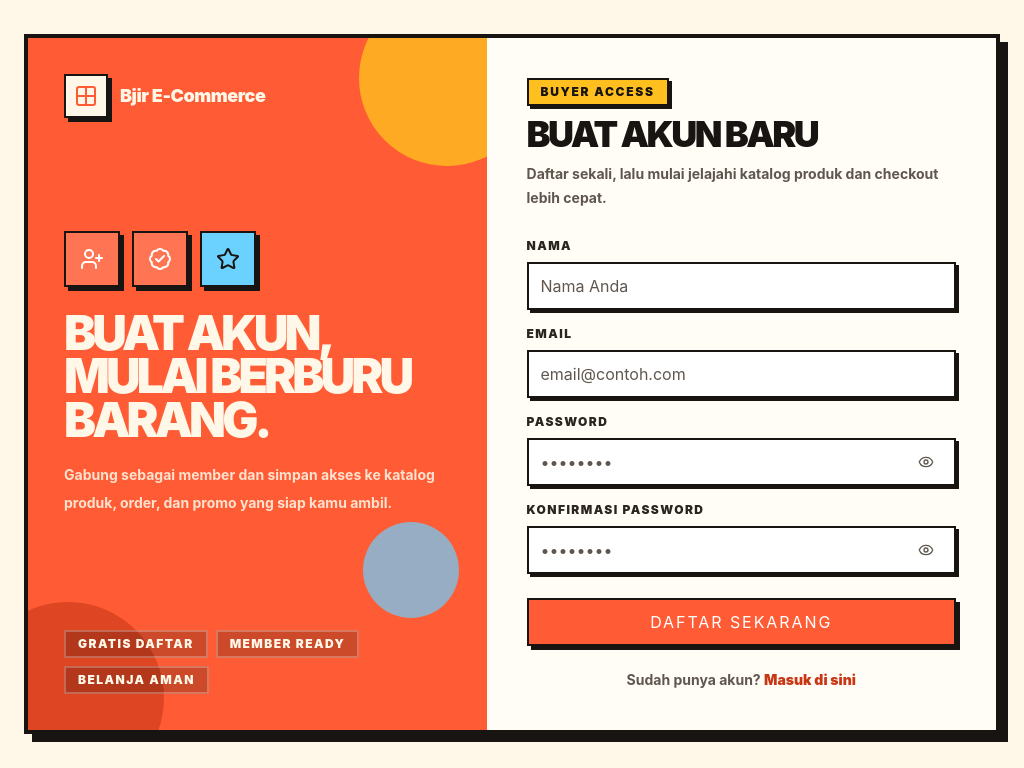
auth flow › shows register error for existing email
Type "Bintang Customer" into the field labelled "Nama" at (741, 286), box [540,274,942,298]
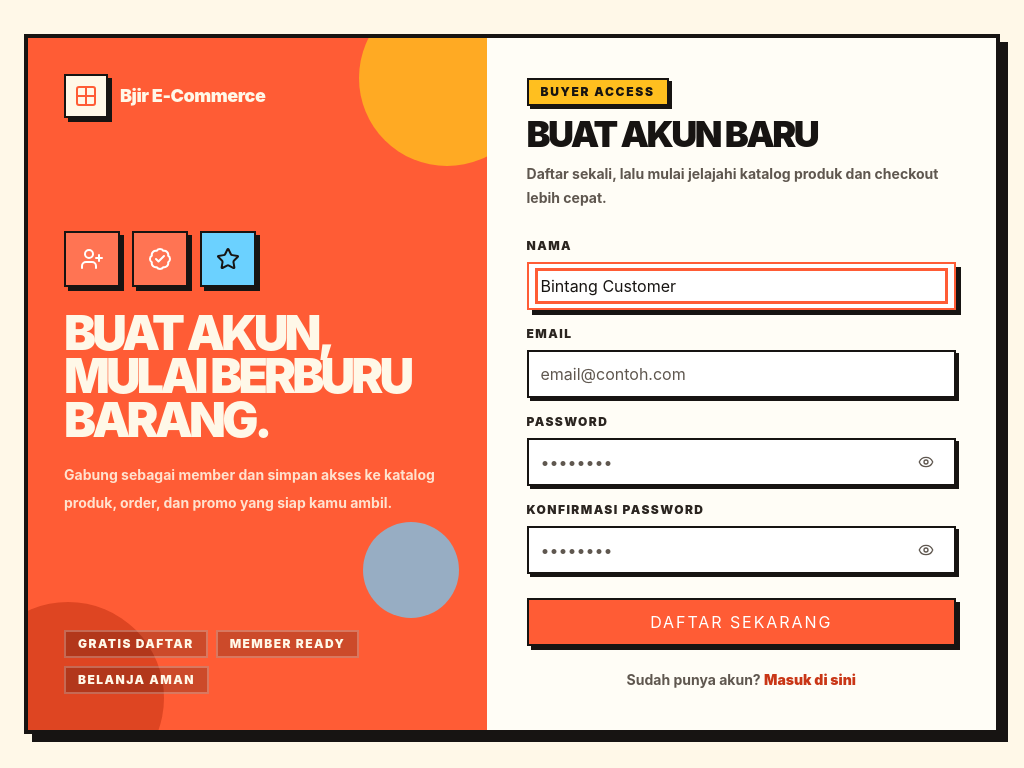
Type "customer@example.test" into the field labelled "Email" at (741, 374), box [540,362,942,386]
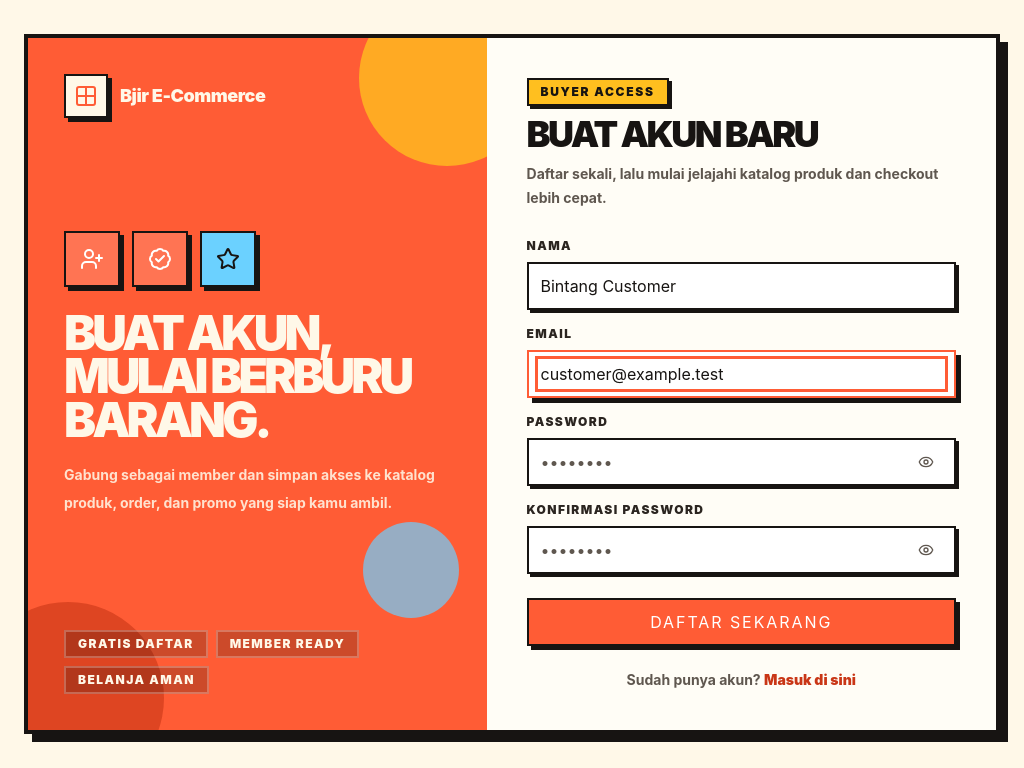
Type "Password123!" into the password field labelled "Password" at (721, 462), box [540,450,902,474]
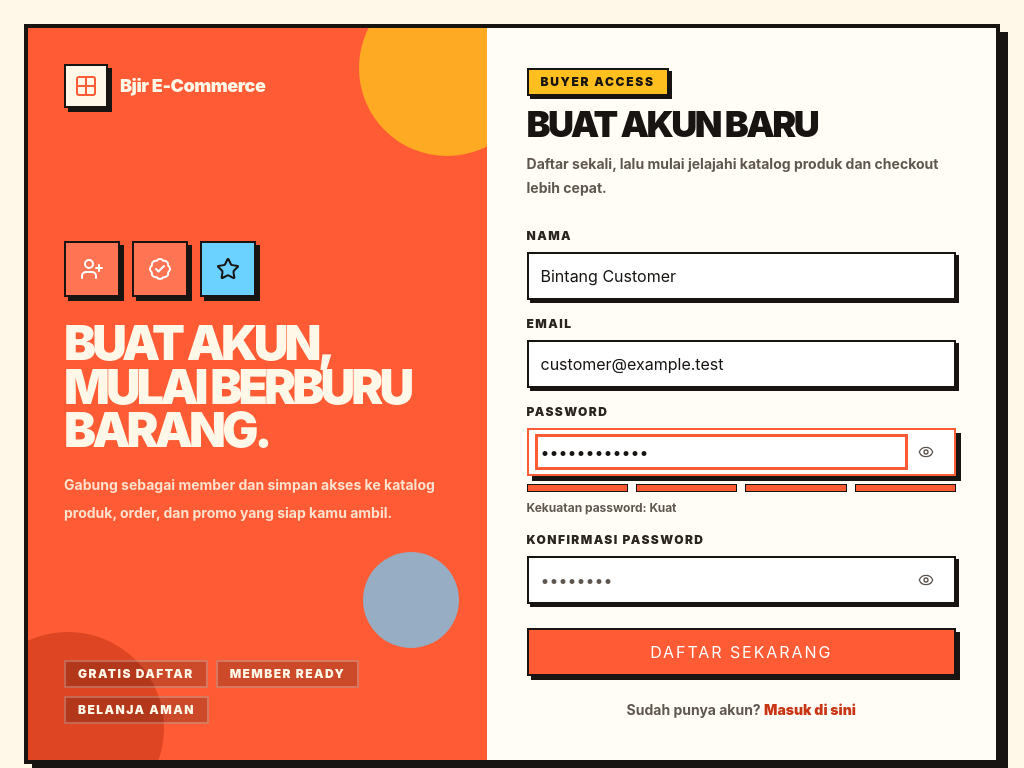
Type "Password123!" into the password field labelled "Konfirmasi Password" at (721, 580), box [540,568,902,592]
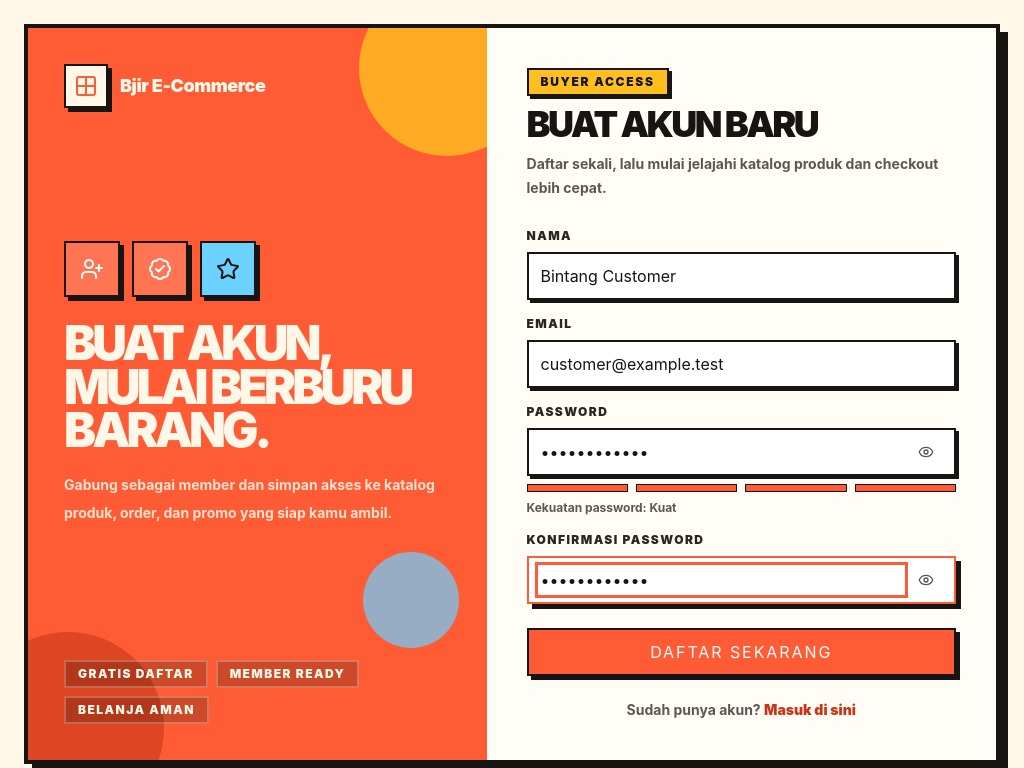
Click the button "Daftar sekarang" at (741, 652), box [526,628,956,676]
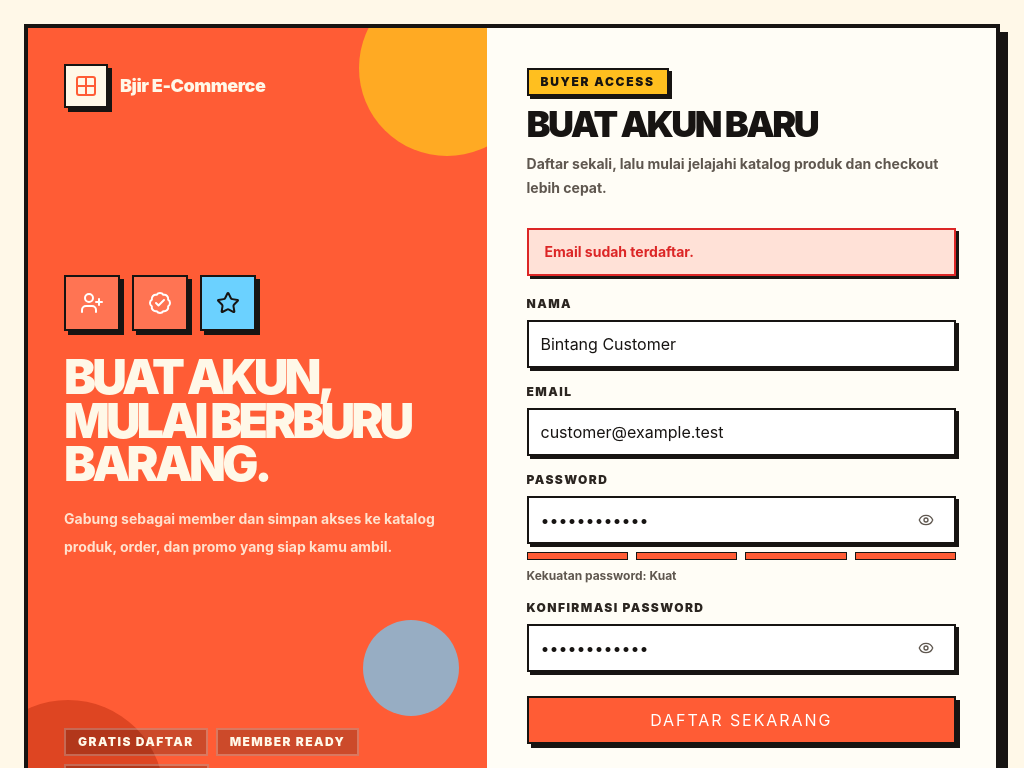
expect the text "Email sudah terdaftar." is shown: met, box [526,228,956,276]
